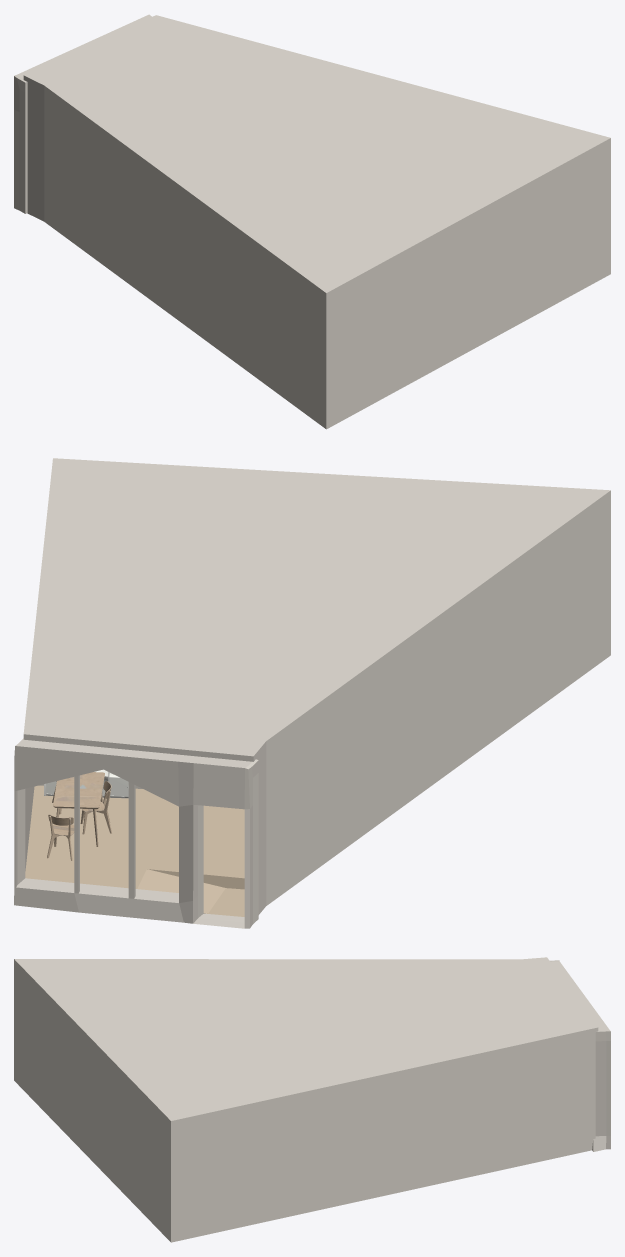
3 views of the same model, one above another, from view 1: azimuth 30°, elevation 25°; view 2: azimuth 150°, elevation 25°; view 3: azimuth 270°, elevation 25° (orthographic). The views are drawn at different scales.
Parts seen in each view (by area): view 1: cieling, outer wall, internal walls, outer wall.001; view 2: cieling, outer wall, outer wall.001, floor.001, table, KALLAX_592.783.07, LISABO_004.572.001; view 3: outer wall, cieling, internal walls, outer wall.001.
Part boxes in pixels (<box>): cieling: <box>23,15,610,298</box>; outer wall: <box>27,82,610,429</box>; internal walls: <box>492,142,610,331</box>; outer wall.001: <box>14,14,151,213</box>; cieling: <box>23,458,610,761</box>; outer wall: <box>25,497,610,914</box>; outer wall.001: <box>14,738,258,928</box>; floor.001: <box>25,785,244,916</box>; table: <box>53,772,104,809</box>; KALLAX_592.783.07: <box>44,769,128,798</box>; LISABO_004.572.001: <box>47,814,74,860</box>; outer wall: <box>14,964,595,1242</box>; cieling: <box>14,957,598,1125</box>; internal walls: <box>142,1077,398,1242</box>; outer wall.001: <box>550,960,610,1151</box>.
Bounding box in the file's own units: 8.85 × 3.04 × 13.51.
12 materials, 8 textured.
